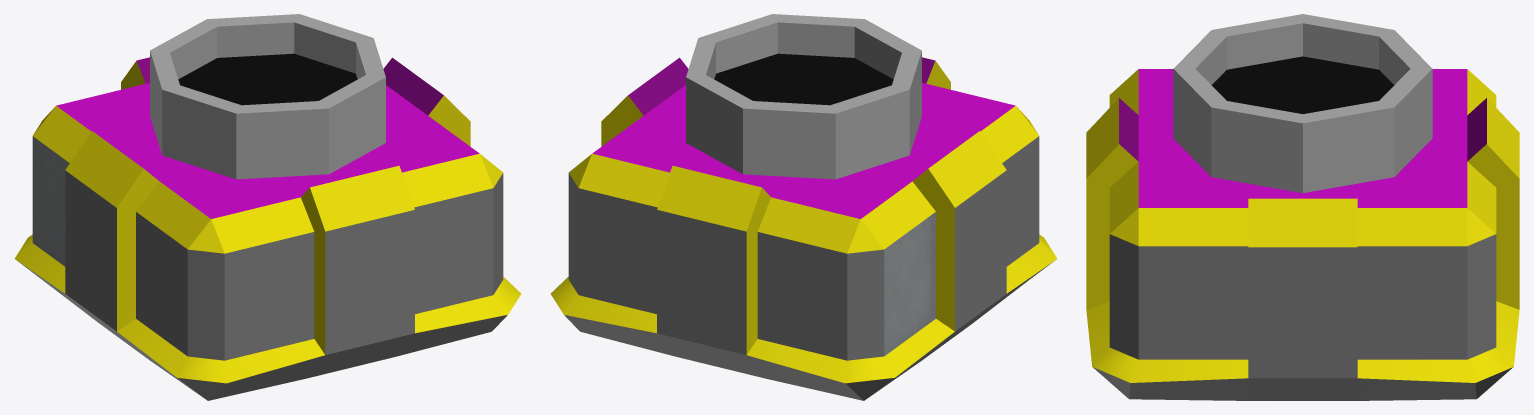
The model's file is WW_wallplug_prop.fbx.
3 renders of one model, left to right at view 1: azimuth 30°, elevation 25°; view 2: azimuth 150°, elevation 25°; view 3: azimuth 270°, elevation 25°, orthographic. The views are drawn at different scales.
Parts seen in each view (by area): view 1: button_housing_geo, pCylinder1; view 2: button_housing_geo, pCylinder1; view 3: button_housing_geo, pCylinder1.
Part boxes in pixels (x1,y1,x2,y2): button_housing_geo: (14,57,521,400); pCylinder1: (150,14,385,179); button_housing_geo: (550,57,1057,400); pCylinder1: (686,14,921,179); button_housing_geo: (1086,69,1519,400); pCylinder1: (1173,14,1432,192).
Size of the model in its own units: 4.29 by 2.84 by 4.29.
